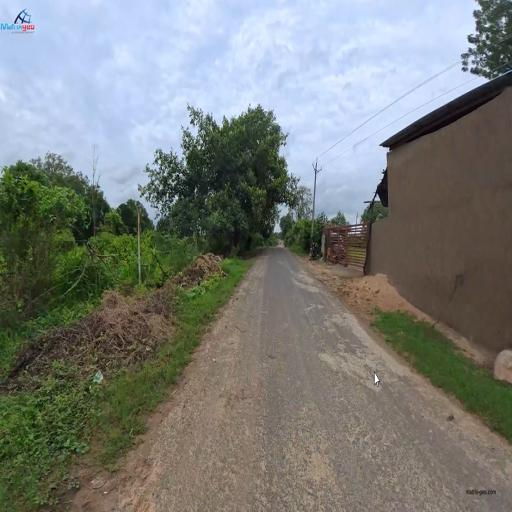ravelling: (214, 404, 415, 501)
